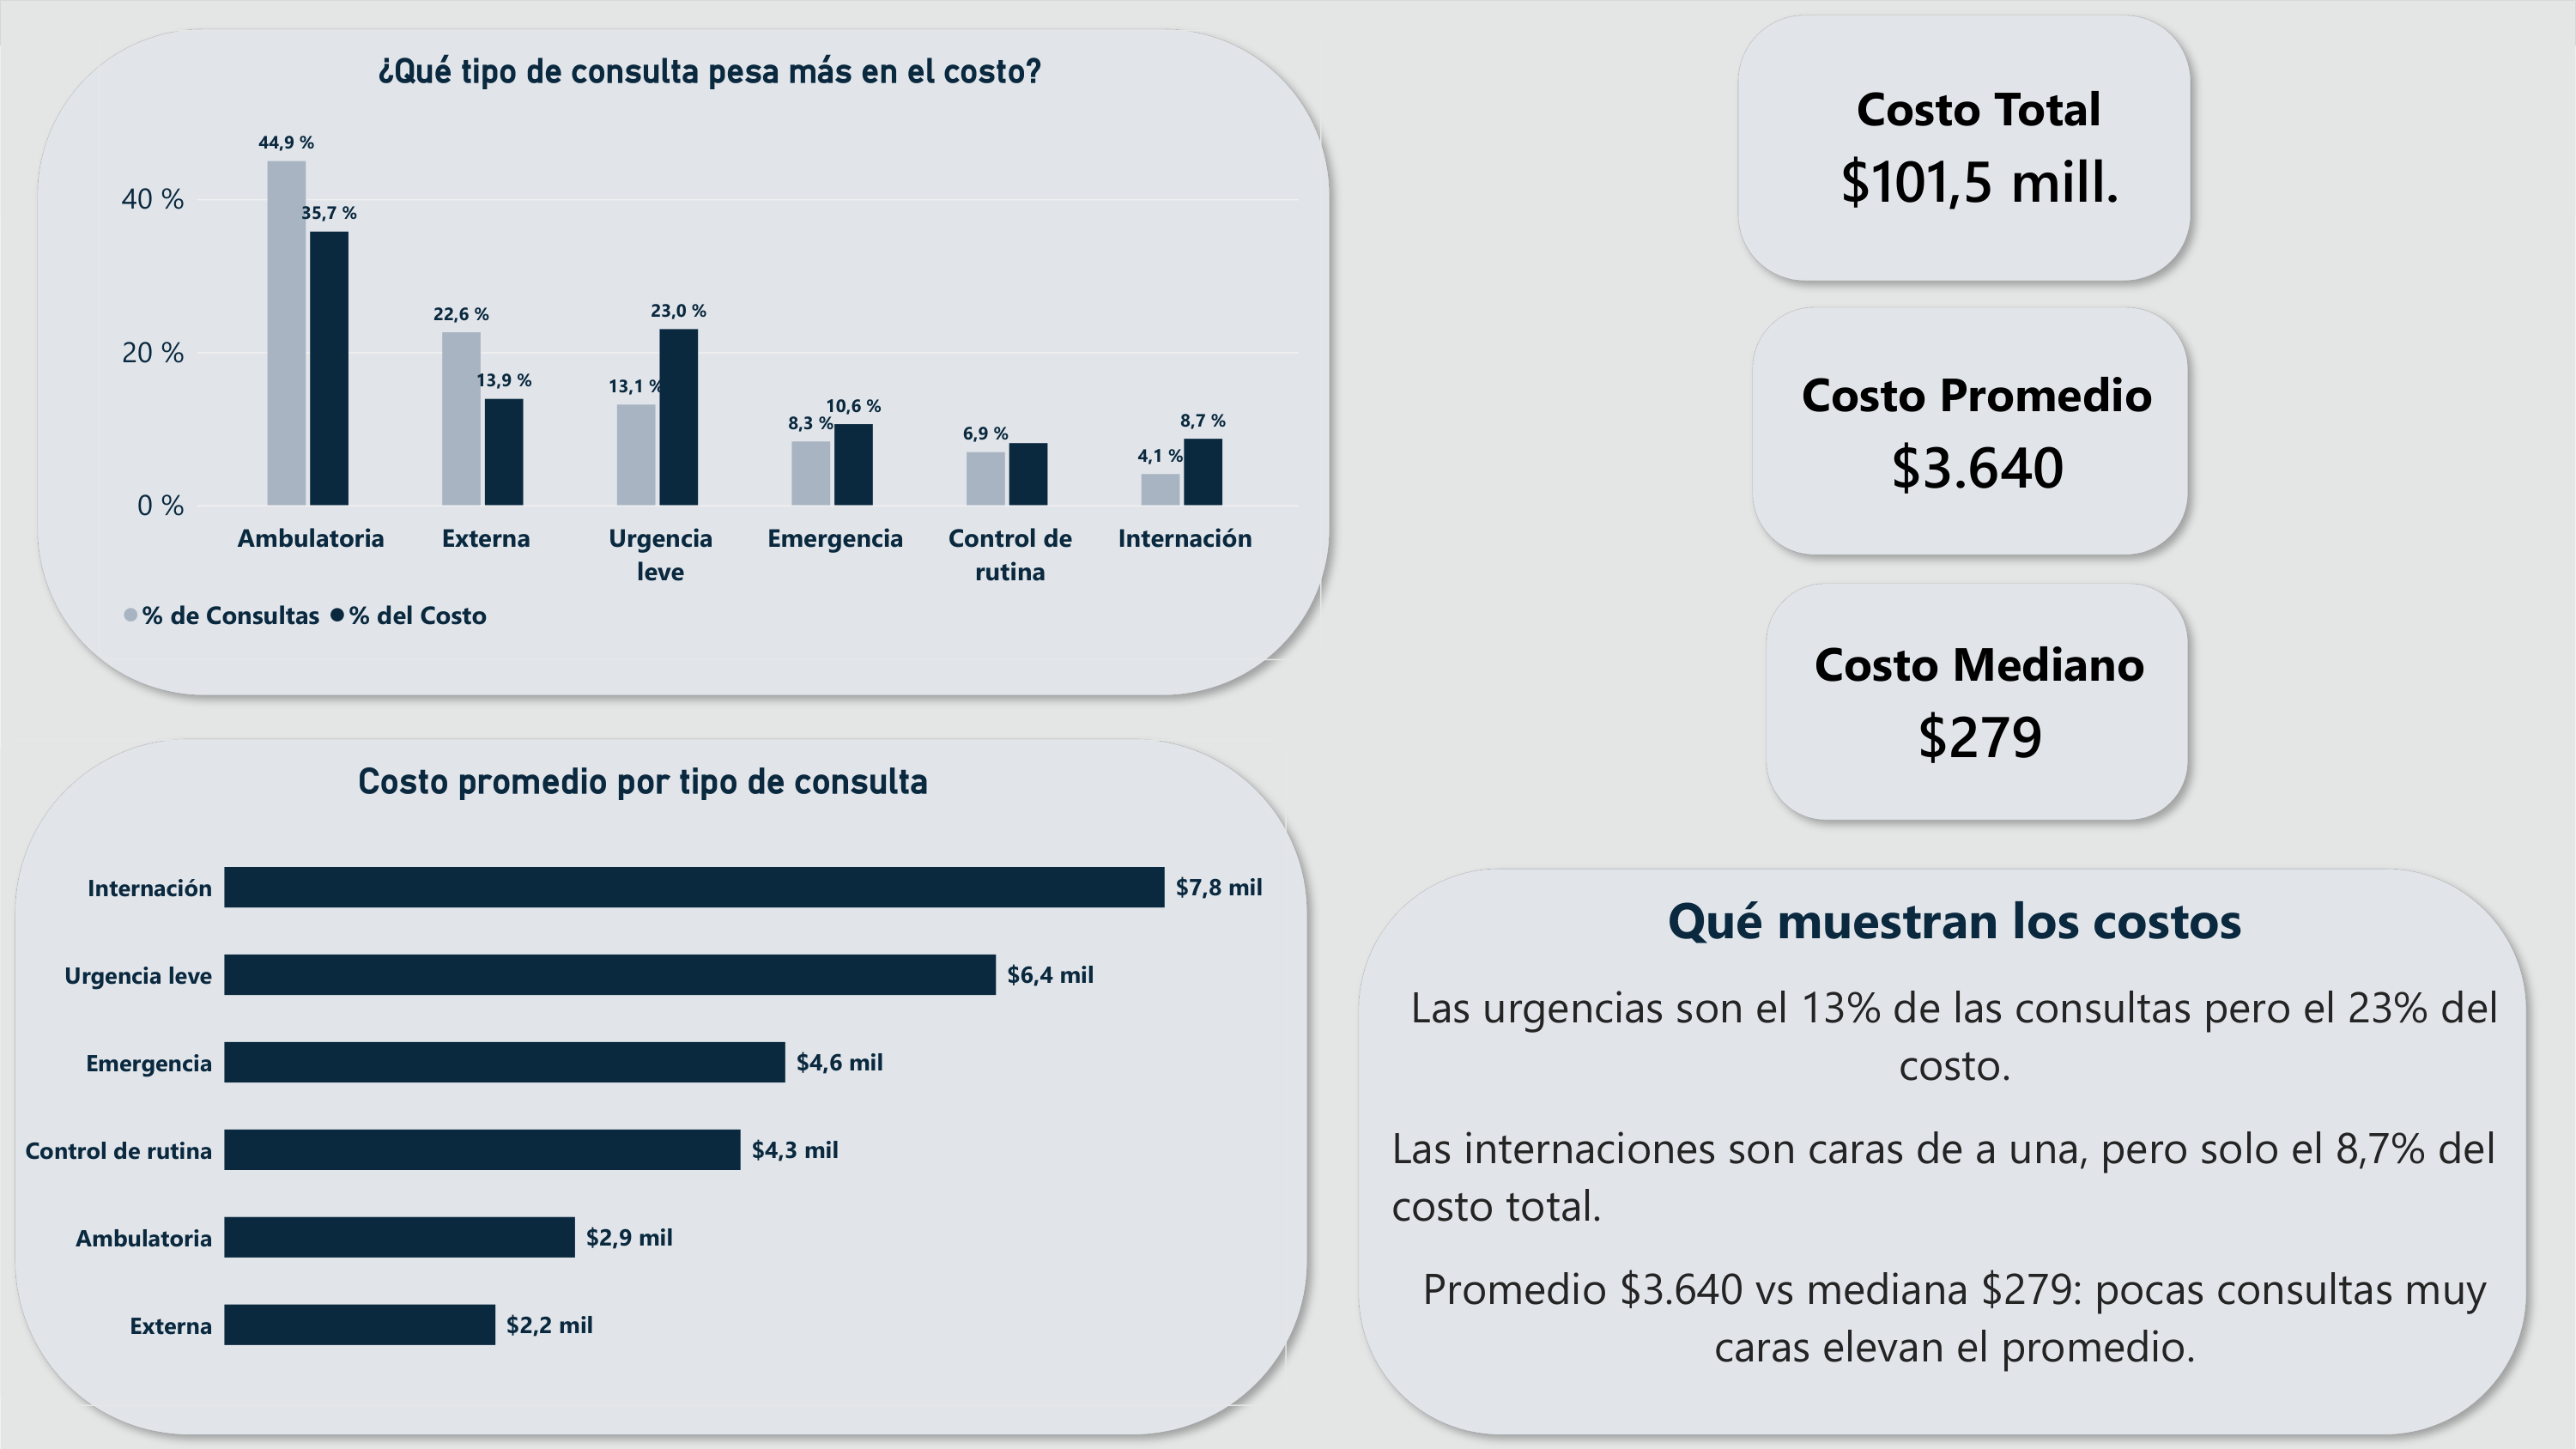

What the dashboard file says about the page in this screenshot:
{"tool":"powerbi","page":{"name":"COSTOS","canvas":[1920,1080],"ordinal":3},"visuals":[{"type":"shape","box":[1002.2,637.2,892.1,442.8],"z":0},{"type":"shape","box":[0,540,985,540],"z":1000},{"type":"shape","box":[1306,424,336,198],"z":2000},{"type":"shape","box":[1296,218,346,206],"z":3000},{"type":"shape","box":[1285.2,0,358.7,219.6],"z":4000},{"type":"cardVisual","fields":{"Data":["medidas.Costo Promedio"]},"box":[1324,236,300,172],"z":5000},{"type":"shape","box":[17.3,10.8,985,518.4],"z":6000},{"type":"clusteredColumnChart","title":"¿Qué tipo de consulta pesa más en el costo?","fields":{"Category":["fct_consultas.tipo_consulta"],"Y":["medidas.% de Consultas","medidas.% del Costo"]},"box":[73.4,21.6,911.5,470.9],"z":7000},{"type":"clusteredBarChart","title":"Costo promedio por tipo de consulta","fields":{"Category":["fct_consultas.tipo_consulta"],"Y":["medidas.Costo Promedio"]},"box":[0,550.8,959,496.8],"z":8000},{"type":"cardVisual","fields":{"Data":["medidas.Costo Total"]},"box":[1306.8,23.8,337,171.7],"z":9000},{"type":"cardVisual","fields":{"Data":["medidas.Costo Mediano"]},"box":[1324,442,304,162],"z":10000},{"type":"textbox","box":[1036.8,658.8,840.2,388.8],"z":11000}]}

Visuals, with their boxes in screenshot pixels (x1, y1, x2, y2), scaled from the page's 1920x1080 canvas onto the 2576x1449 screenshot:
shape: bbox(1344, 855, 2542, 1448)
shape: bbox(0, 724, 1322, 1448)
shape: bbox(1752, 569, 2203, 834)
shape: bbox(1739, 293, 2203, 569)
shape: bbox(1724, 0, 2205, 294)
cardVisual - medidas.Costo Promedio: bbox(1776, 317, 2179, 548)
shape: bbox(23, 15, 1345, 710)
"¿Qué tipo de consulta pesa más en el costo?" clusteredColumnChart: bbox(99, 29, 1321, 661)
"Costo promedio por tipo de consulta" clusteredBarChart: bbox(0, 739, 1287, 1405)
cardVisual - medidas.Costo Total: bbox(1754, 32, 2205, 263)
cardVisual - medidas.Costo Mediano: bbox(1776, 593, 2185, 810)
textbox: bbox(1391, 884, 2518, 1405)
